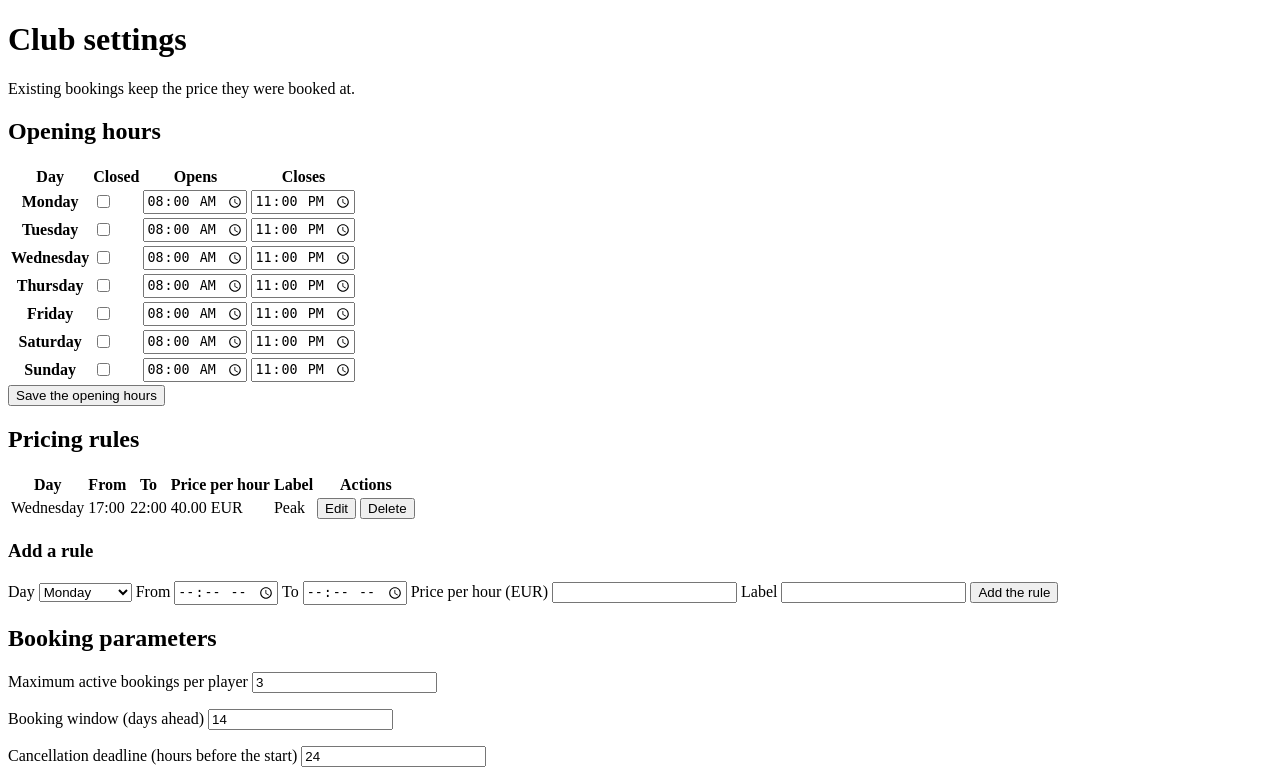
Club settings page › edits a pricing rule
Check: the cell "Peak" is shown, box x1=273 y1=496 x2=314 y2=520
Step 1. Click the button "Edit" → coordinates (337, 508), box x1=317 y1=498 x2=356 y2=518
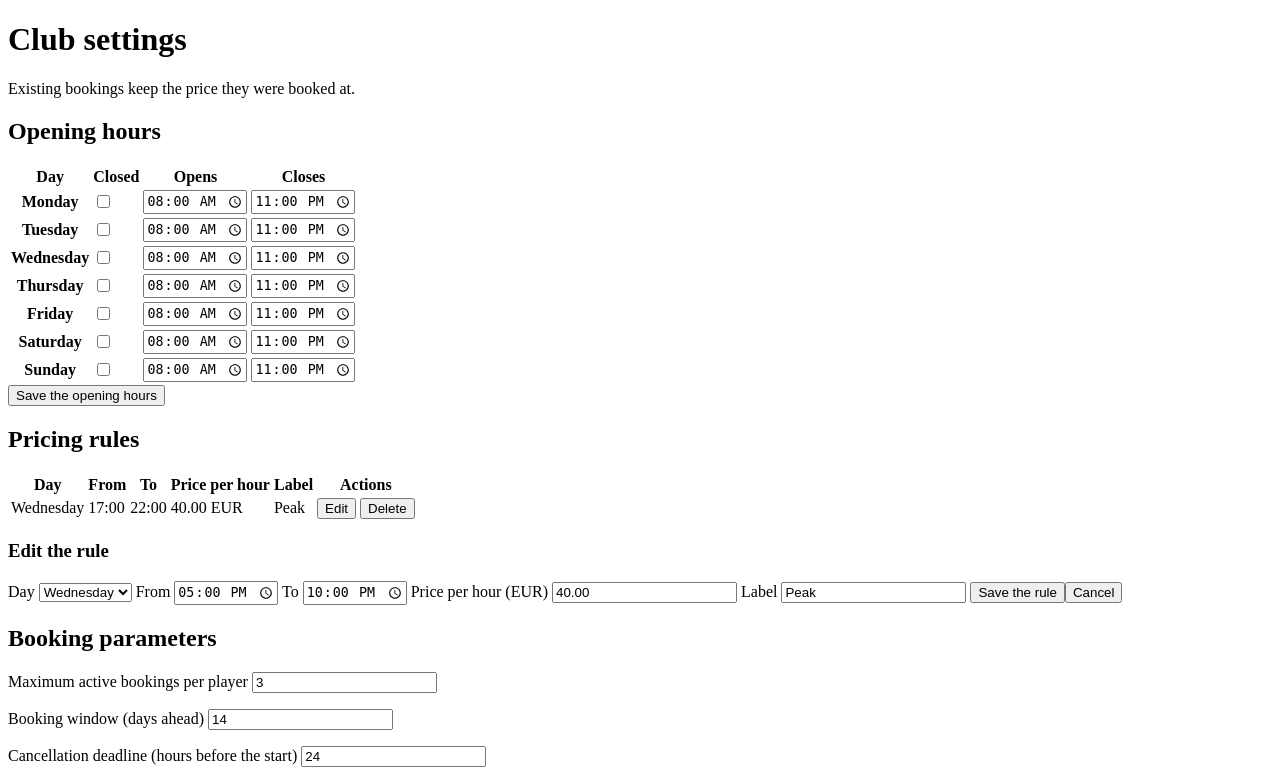
Check: the time field labelled "From" holds "17:00", box x1=174 y1=581 x2=278 y2=605
Step 2. Replace the text in the number field labelled "Price per hour (EUR)" with "42" → coordinates (644, 593), box x1=552 y1=582 x2=737 y2=603
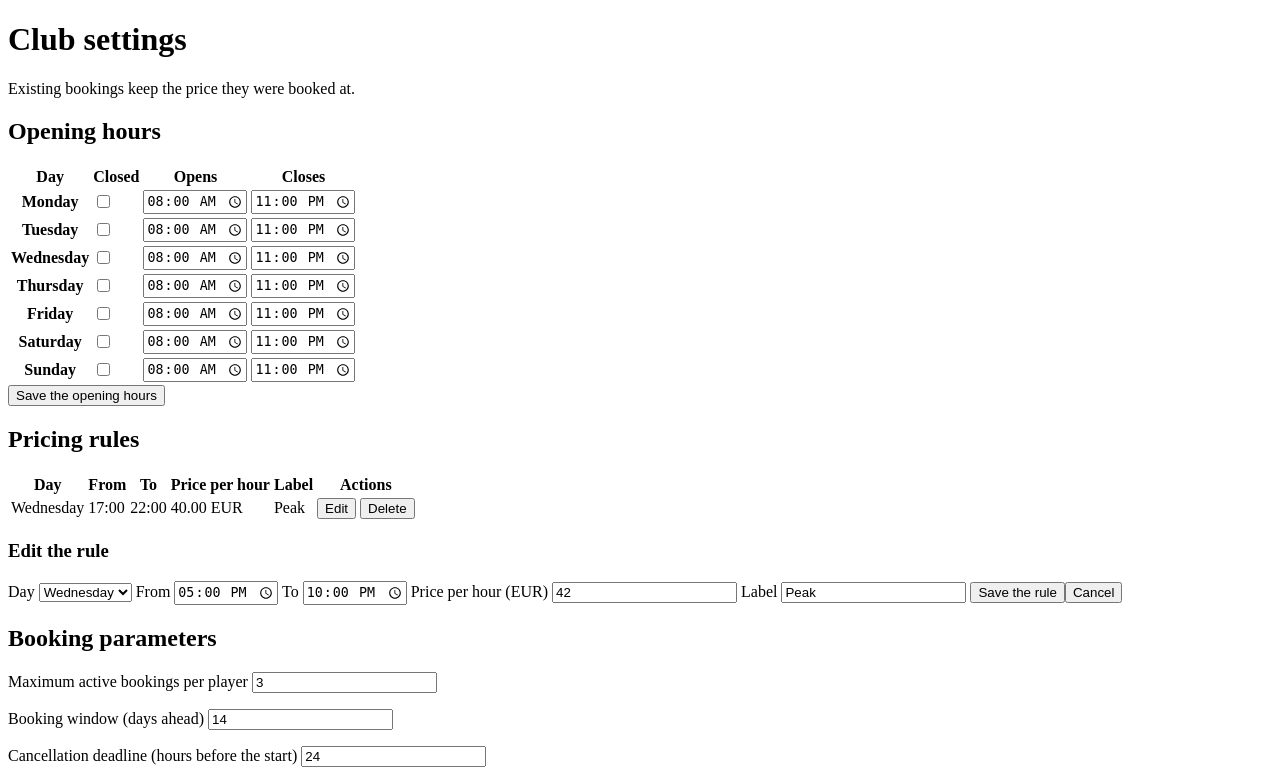
Step 3. Click the button "Save the rule" → coordinates (1018, 593), box x1=970 y1=582 x2=1065 y2=603
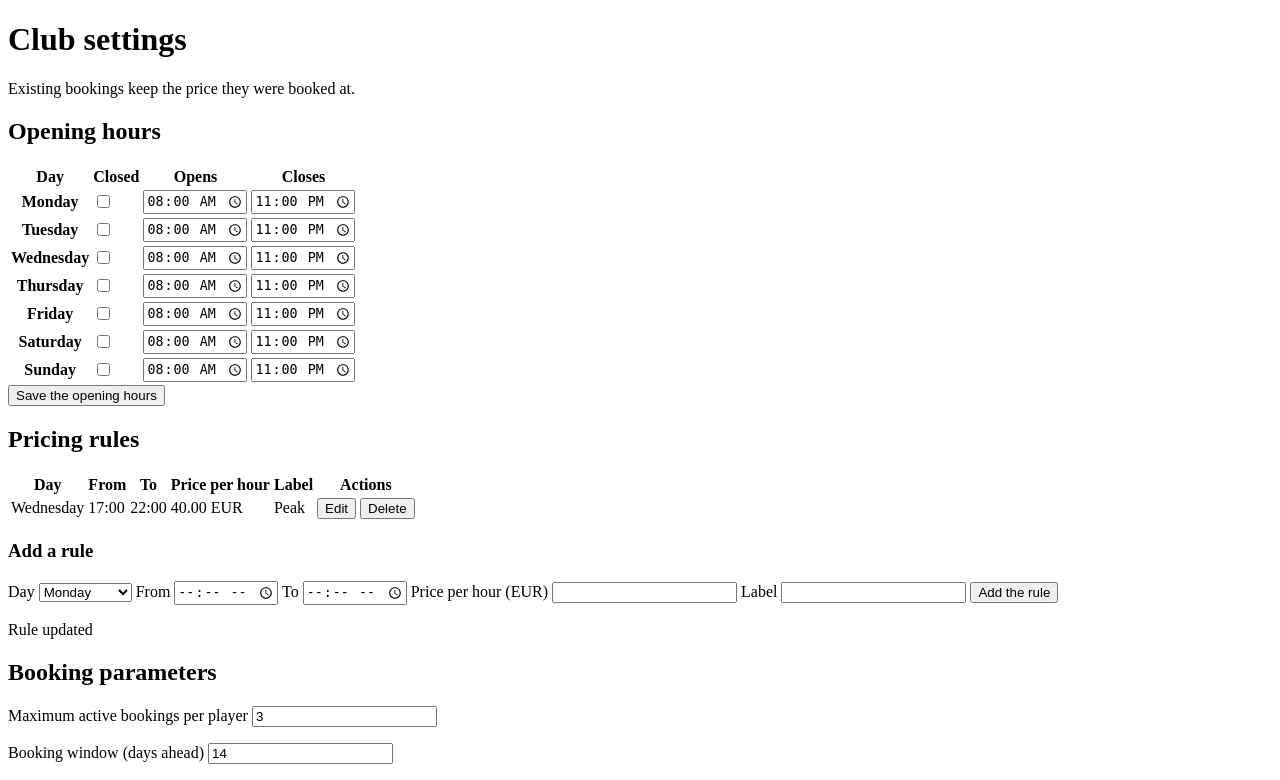
Check: the text "Rule updated" is shown, box x1=8 y1=621 x2=93 y2=638
